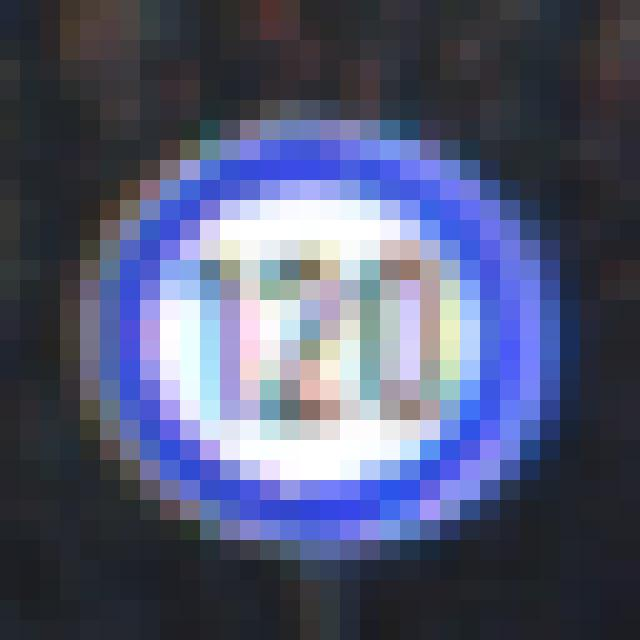SPEED LIMIT 120: (74, 128, 558, 542)
